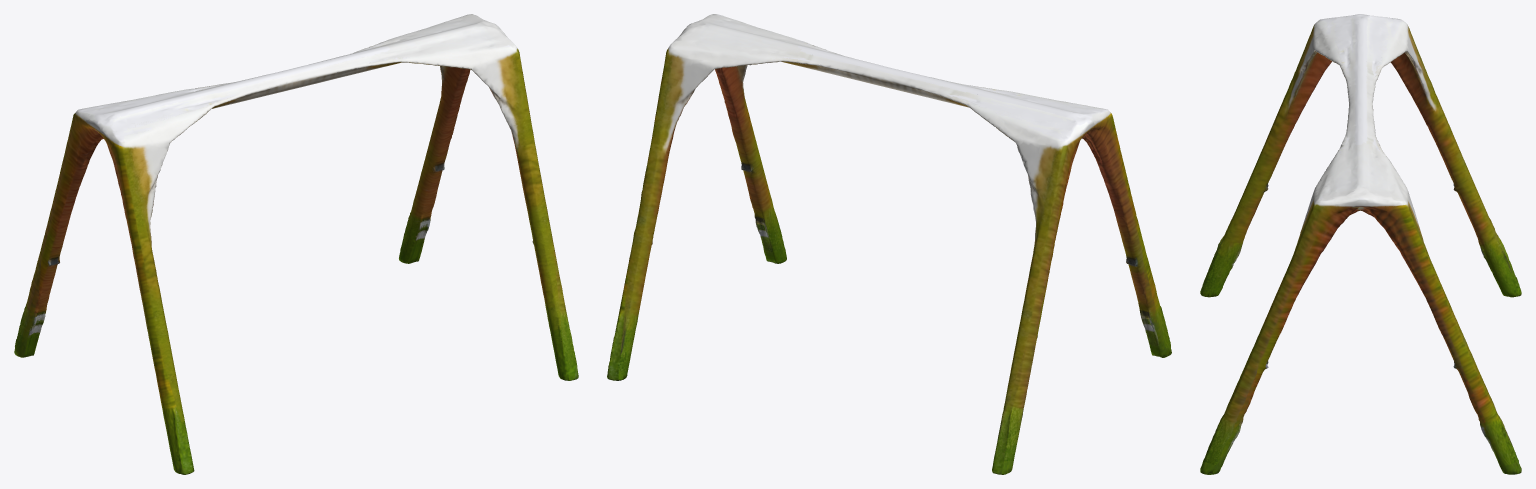
File: goal_line.glb
3 renders of one model, left to right at view 1: azimuth 30°, elevation 25°; view 2: azimuth 150°, elevation 25°; view 3: azimuth 270°, elevation 25°, orthographic. The views are drawn at different scales.
Size of the model in its own units: 1.92 by 1.35 by 1.4.
Materials: 1 (1 with a texture image).
